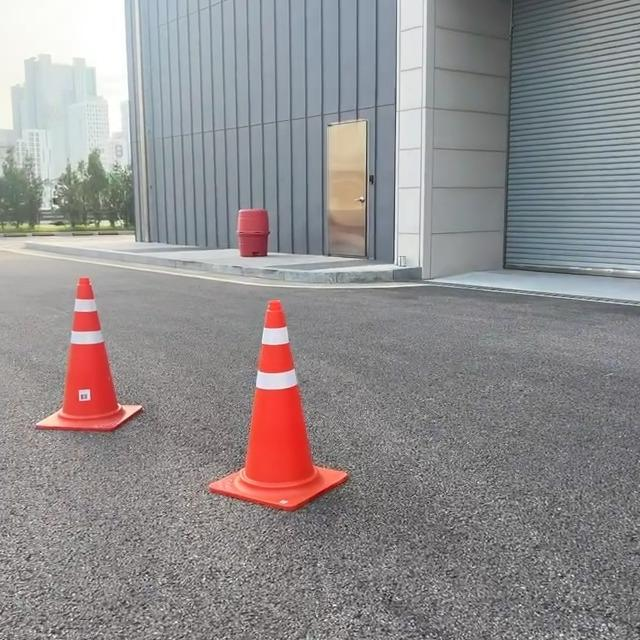fallen_object: (220, 286, 402, 520), (27, 255, 216, 467)
